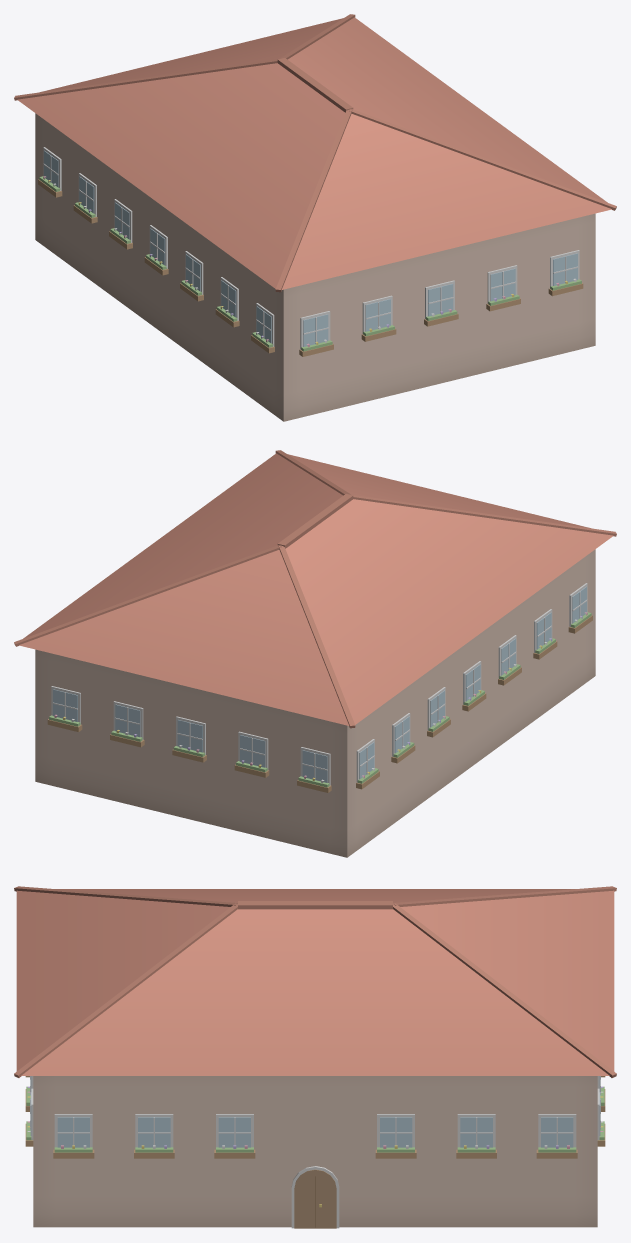
The model's file is pss_shell.glb.
3 views of the same model, one above another, from view 1: azimuth 30°, elevation 25°; view 2: azimuth 150°, elevation 25°; view 3: azimuth 270°, elevation 25° (orthographic). The views are drawn at different scales.
Visible parts, largest first — view 1: pss_roof, pss_body; view 2: pss_roof, pss_body; view 3: pss_roof, pss_body.
Part boxes in pixels (<box>): pss_roof: <box>14,14,616,292</box>; pss_body: <box>35,113,595,421</box>; pss_roof: <box>14,450,616,728</box>; pss_body: <box>35,549,595,857</box>; pss_roof: <box>14,886,616,1077</box>; pss_body: <box>25,1076,605,1228</box>.
Size of the model in its own units: 15.88 by 9.3 by 21.38.
